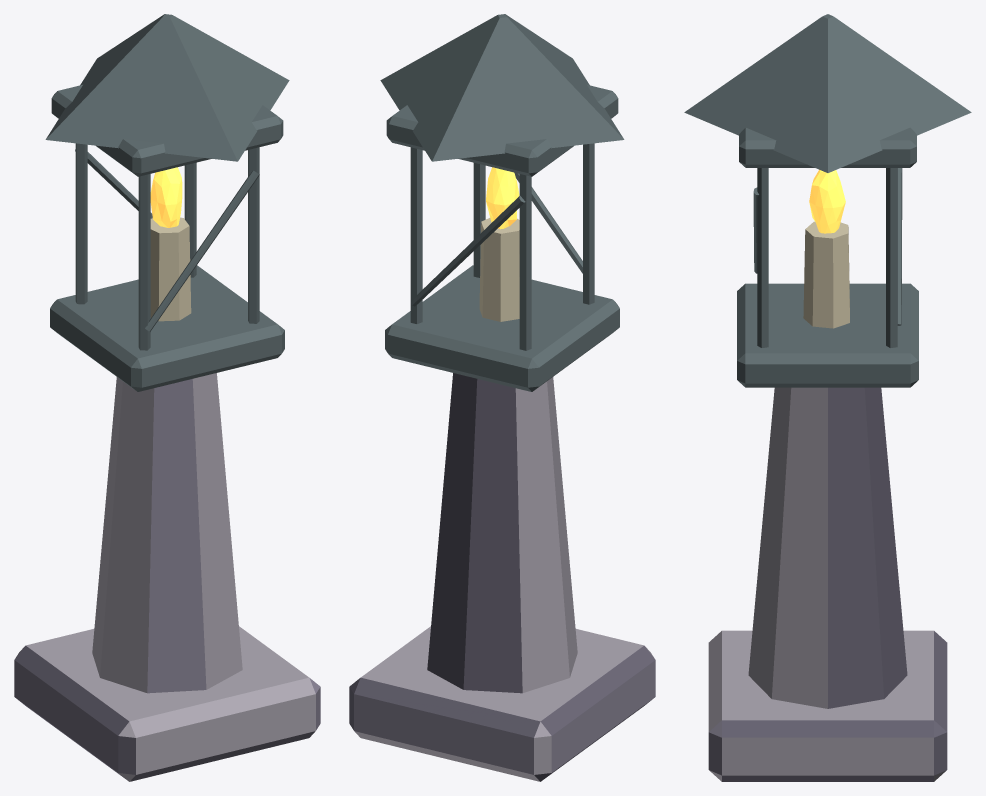
File: vigil_lantern.glb
3 views of the same model, side by side, from view 1: azimuth 30°, elevation 25°; view 2: azimuth 150°, elevation 25°; view 3: azimuth 270°, elevation 25° (orthographic). The views are drawn at different scales.
Visible parts, largest first — view 1: vigil_lantern; view 2: vigil_lantern; view 3: vigil_lantern.
Part boxes in pixels (x1=…): vigil_lantern: x1=14, y1=14, x2=320, y2=781; vigil_lantern: x1=349, y1=14, x2=655, y2=781; vigil_lantern: x1=684, y1=14, x2=971, y2=781.
Size of the model in its own units: 0.76 by 2.1 by 0.76.
